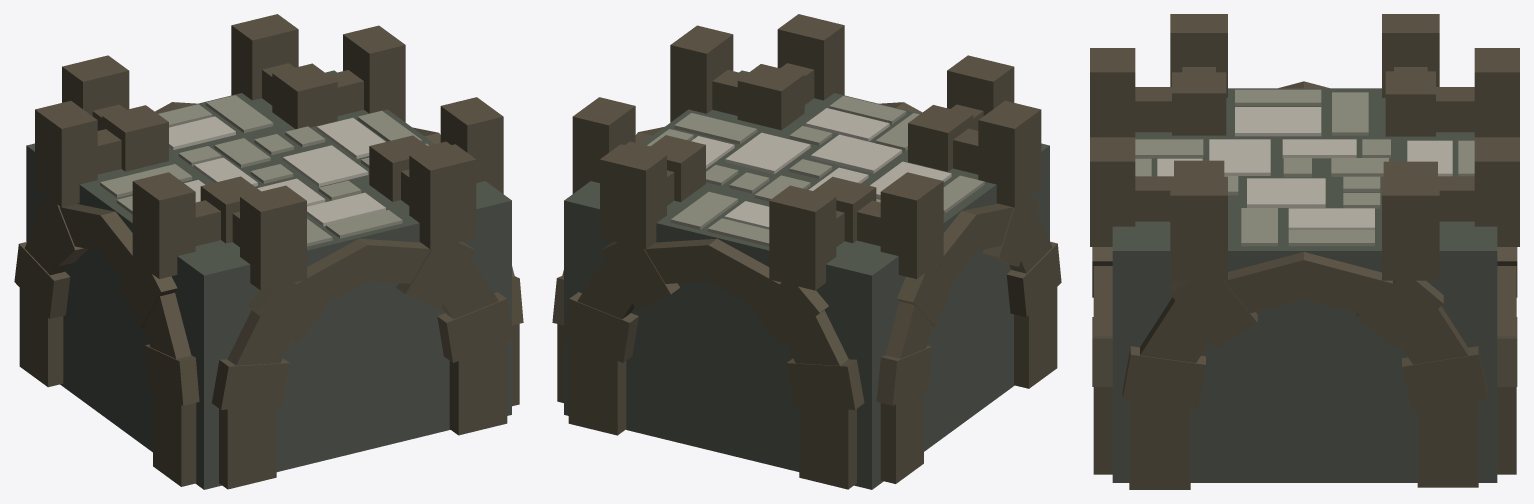
3 renders of one model, left to right at view 1: azimuth 30°, elevation 25°; view 2: azimuth 150°, elevation 25°; view 3: azimuth 270°, elevation 25°, orthographic. The views are drawn at different scales.
Visible parts, largest first — view 1: Stone Bridge - Base; view 2: Stone Bridge - Base; view 3: Stone Bridge - Base.
Boxes of the visible parts, x1,y1,x2,y2 form: Stone Bridge - Base: (14, 14, 523, 489); Stone Bridge - Base: (552, 14, 1061, 489); Stone Bridge - Base: (1090, 14, 1519, 489).
Size of the model in its own units: 112 by 85.1 by 112.
